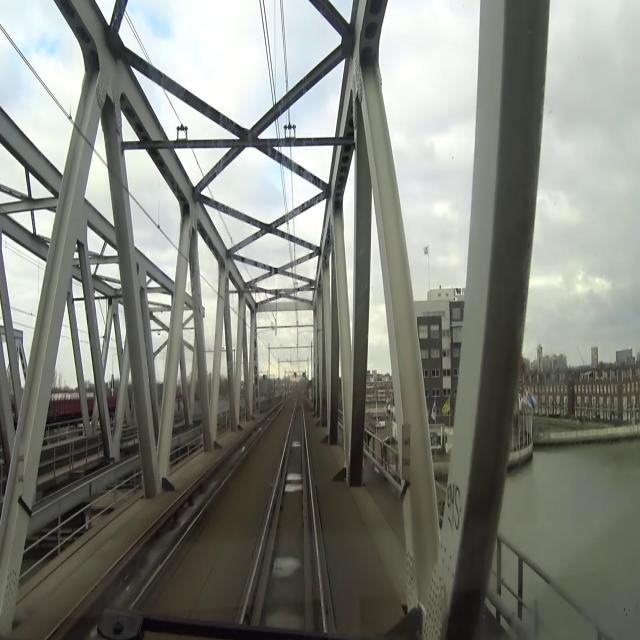rail-track: (66, 427, 260, 639), (261, 396, 305, 628), (244, 495, 275, 622), (307, 486, 320, 629)
